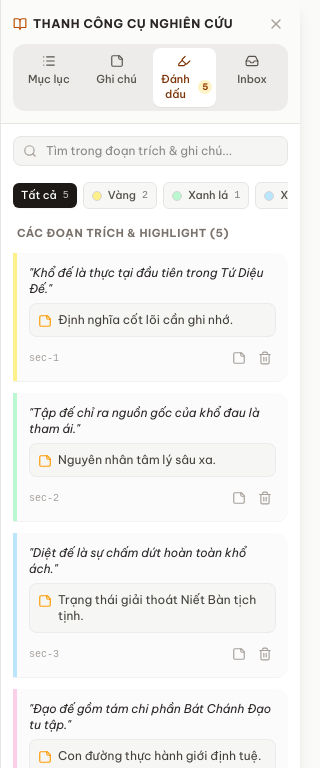
Test: Phase R3c: Reader Highlights Filtering & Quick Search (Test-First) › 4. Filters excerpts by combination of color chip AND search keyword (AND logic)
Click the button with test id "filter-color-yellow": (120, 196) top-left (83, 182), bottom-right (157, 209)
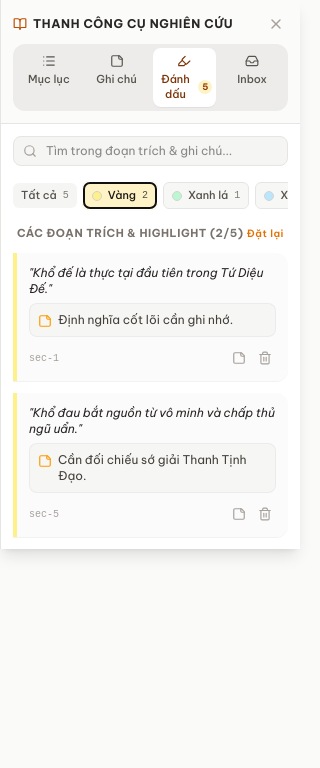
Note: Type keyword "đầu tiên" which only exists in e-1
In the field with test id "highlights-search-input": (150, 151) top-left (13, 136), bottom-right (288, 166), type "đầu tiên"
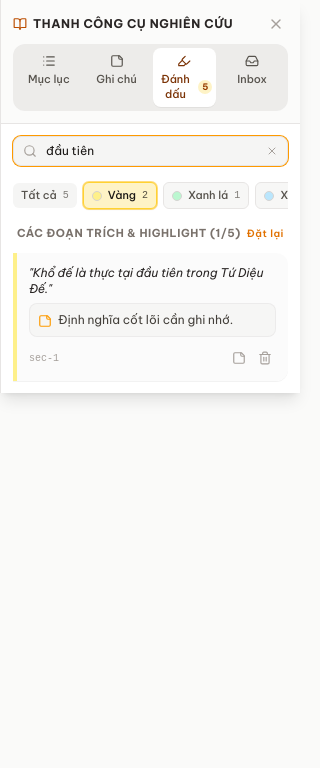
Expected: the button with test id "excerpt-card-e-1" is shown, top-left (13, 253), bottom-right (288, 381)
Expected: the button with test id "excerpt-card-e-5" is gone
